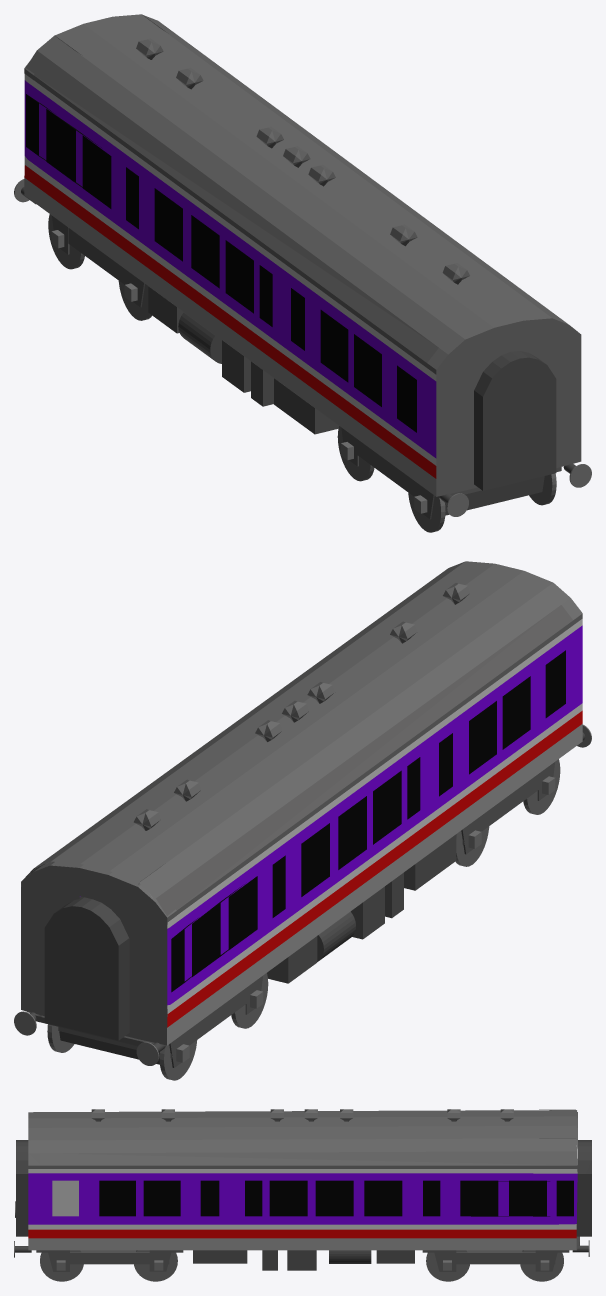
The model's file is BR-101-tsl-nse-old.dae.
3 views of the same model, one above another, from view 1: azimuth 30°, elevation 25°; view 2: azimuth 150°, elevation 25°; view 3: azimuth 270°, elevation 25° (orthographic). The views are drawn at different scales.
Visible parts, largest first — view 1: BR-cl101-front_rear, Cube, Cube_060_001, Cube_001, Cube_043_001, Cube_043, Cylinder_002, Cube_003, Cube_004, Cube_002, Cylinder_011_001; view 2: BR-cl101-front_rear, Cube_005, Cube_043, Cube_001, Cube_043_001, Cube_004, Cube_003, Cube_061, Cylinder_002, Cylinder_010, Cube_002; view 3: BR-cl101-front_rear, Cube_005, Cube_043, Cube_043_001, Cube, Cube_001, Cube_003, Cylinder_009_001, Cylinder_008, Cylinder_009, Cylinder_008_001, Cylinder_003 (+4 smaller).
Boxes of the visible parts, x1,y1,x2,y2 form: BR-cl101-front_rear: [24, 14, 581, 496]; Cube: [474, 351, 556, 490]; Cube_060_001: [422, 467, 561, 519]; Cube_001: [274, 378, 338, 434]; Cube_043_001: [357, 439, 431, 508]; Cube_043: [68, 228, 141, 296]; Cylinder_002: [178, 312, 221, 363]; Cube_003: [222, 340, 250, 392]; Cube_004: [148, 286, 183, 333]; Cube_002: [251, 361, 273, 406]; Cylinder_011_001: [408, 493, 445, 532]; BR-cl101-front_rear: [21, 561, 582, 1045]; Cube_005: [44, 896, 129, 1040]; Cube_043: [58, 977, 260, 1058]; Cube_001: [404, 834, 456, 890]; Cube_043_001: [462, 764, 552, 844]; Cube_004: [167, 923, 317, 983]; Cube_003: [351, 886, 384, 939]; Cube_061: [59, 1031, 186, 1067]; Cylinder_002: [317, 911, 355, 961]; Cylinder_010: [159, 1040, 197, 1080]; Cube_002: [385, 872, 403, 918]; BR-cl101-front_rear: [28, 1109, 579, 1250]; Cube_005: [576, 1140, 591, 1236]; Cube_043: [456, 1250, 555, 1264]; Cube_043_001: [70, 1250, 169, 1264]; Cube: [16, 1140, 28, 1236]; Cube_001: [193, 1250, 247, 1263]; Cube_003: [287, 1250, 316, 1270]; Cylinder_009_001: [134, 1250, 177, 1281]; Cylinder_008: [426, 1250, 469, 1281]; Cylinder_009: [520, 1250, 563, 1281]; Cylinder_008_001: [40, 1250, 83, 1281]; Cylinder_003: [329, 1250, 371, 1263].
Bounding box in the file's own units: 2.04 × 10.35 × 3.05.
